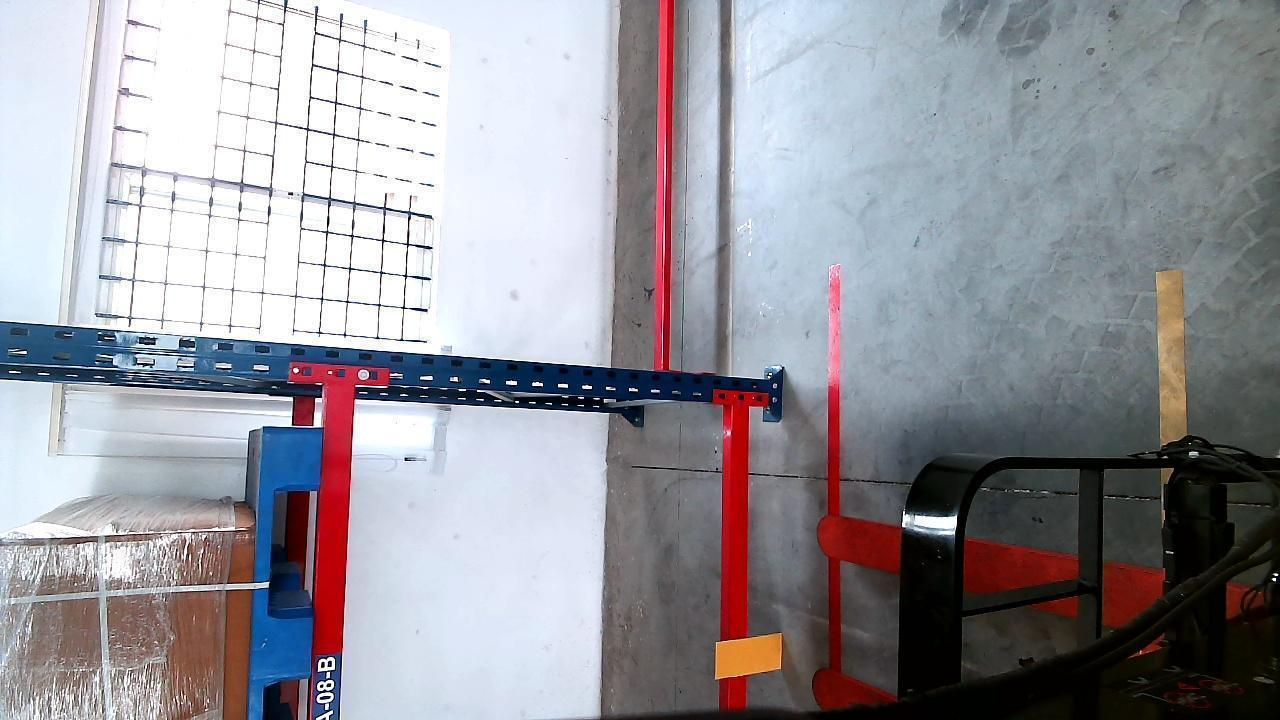red_line: (827, 264, 847, 697)
yellow_line: (1155, 262, 1185, 447)
